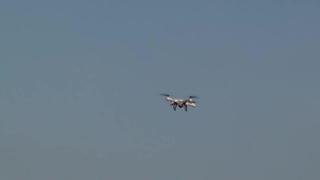UAV: (162, 94, 198, 112)
